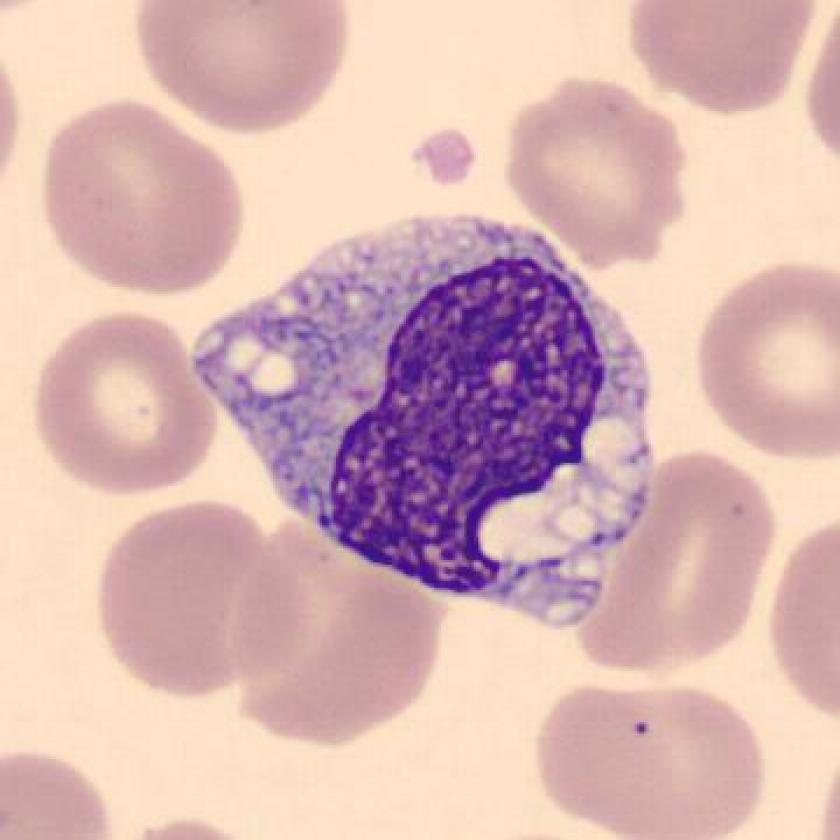monocyte: (171, 198, 673, 647)
